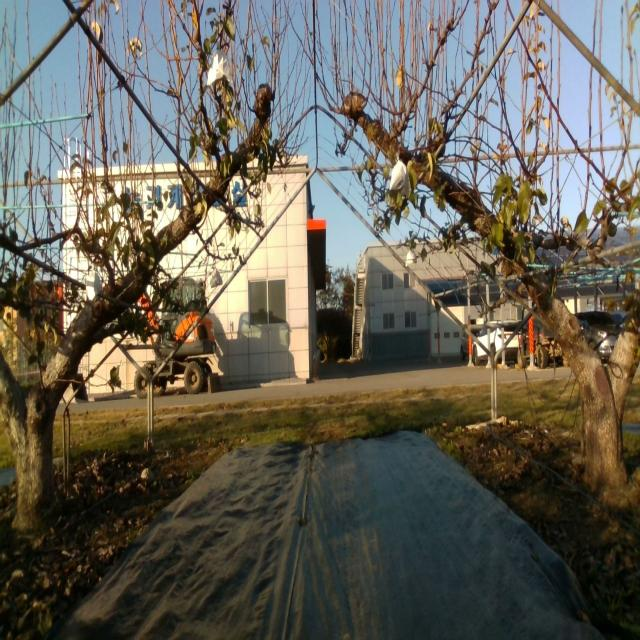pearbags: (205, 48, 232, 88), (389, 160, 410, 197), (86, 264, 101, 300), (210, 265, 223, 288), (405, 248, 417, 268)
